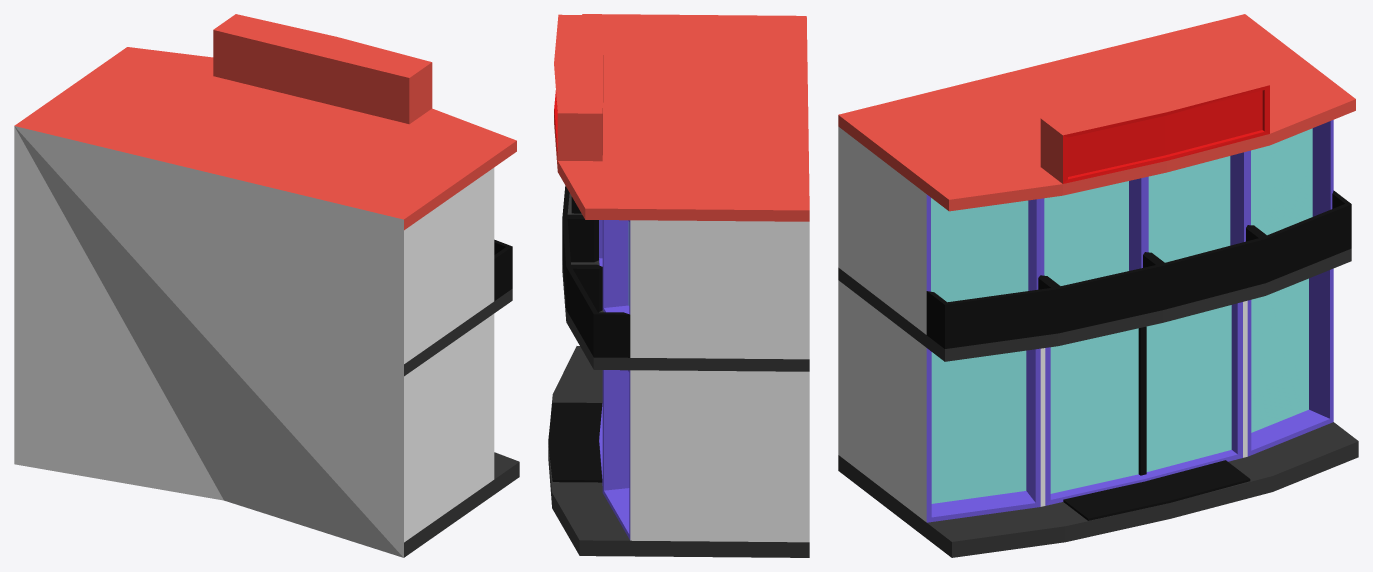
The model's file is Building Curve.fbx.
The picture shows the model from 3 angles, left to right: view 1: azimuth 30°, elevation 25°; view 2: azimuth 150°, elevation 25°; view 3: azimuth 270°, elevation 25°; orthographic projection. The views are drawn at different scales.
Parts seen in each view (by area): view 1: pasted__Floor_Plan4; view 2: pasted__Floor_Plan4; view 3: pasted__Floor_Plan4.
Boxes of the visible parts, x1,y1,x2,y2 form: pasted__Floor_Plan4: [14, 14, 519, 557]; pasted__Floor_Plan4: [548, 14, 809, 557]; pasted__Floor_Plan4: [838, 14, 1358, 557].
Size of the model in its own units: 755 by 883 by 758.
